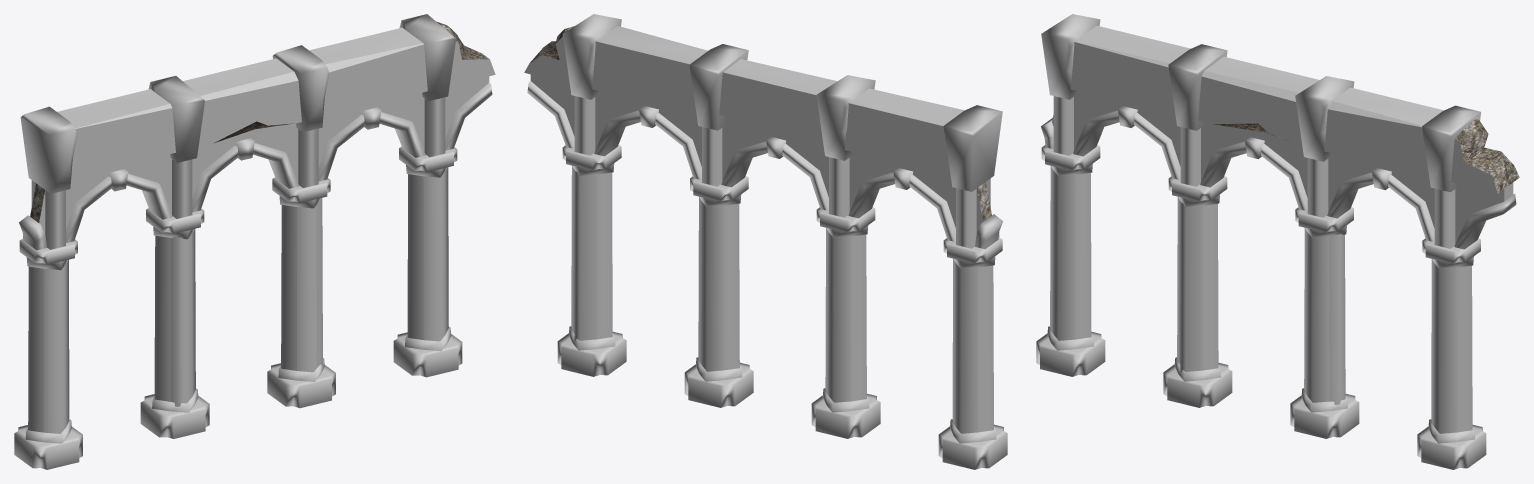
File: Ruins_14_LOD2.fbx
The picture shows the model from 3 angles, left to right: view 1: azimuth 30°, elevation 25°; view 2: azimuth 150°, elevation 25°; view 3: azimuth 330°, elevation 25°; orthographic projection.
Parts seen in each view (by area): view 1: polySurface5385; view 2: polySurface5385; view 3: polySurface5385.
Boxes of the visible parts, x1=… form: polySurface5385: x1=14, y1=14, x2=495, y2=469; polySurface5385: x1=524, y1=14, x2=1007, y2=469; polySurface5385: x1=1036, y1=14, x2=1519, y2=469.
Bounding box in the file's own units: 9.67 × 6.69 × 1.09.
